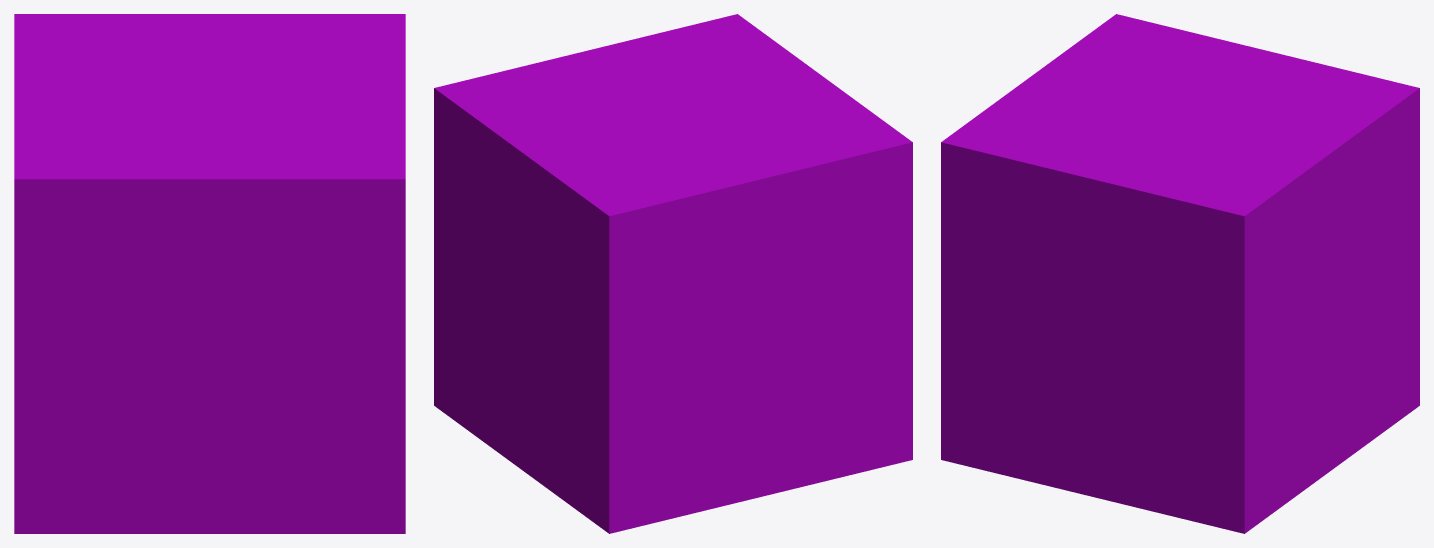
Rendered from 2.SP-Cubo.gltf.
3 renders of one model, left to right at view 1: azimuth 30°, elevation 25°; view 2: azimuth 150°, elevation 25°; view 3: azimuth 270°, elevation 25°, orthographic. The views are drawn at different scales.
Parts seen in each view (by area): view 1: 2.SP Cubo; view 2: 2.SP Cubo; view 3: 2.SP Cubo.
Boxes of the visible parts, x1=… form: 2.SP Cubo: x1=14, y1=14, x2=405, y2=533; 2.SP Cubo: x1=434, y1=14, x2=912, y2=533; 2.SP Cubo: x1=941, y1=14, x2=1419, y2=533.
Bounding box in the file's own units: 0.0683 × 0.05 × 0.0683.
